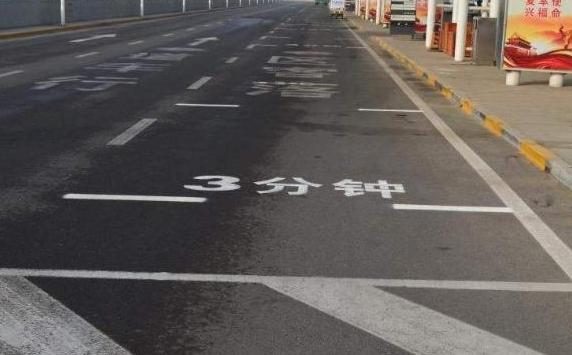slot_nocar: (14, 98, 571, 301), (183, 34, 431, 119), (245, 27, 373, 56)
